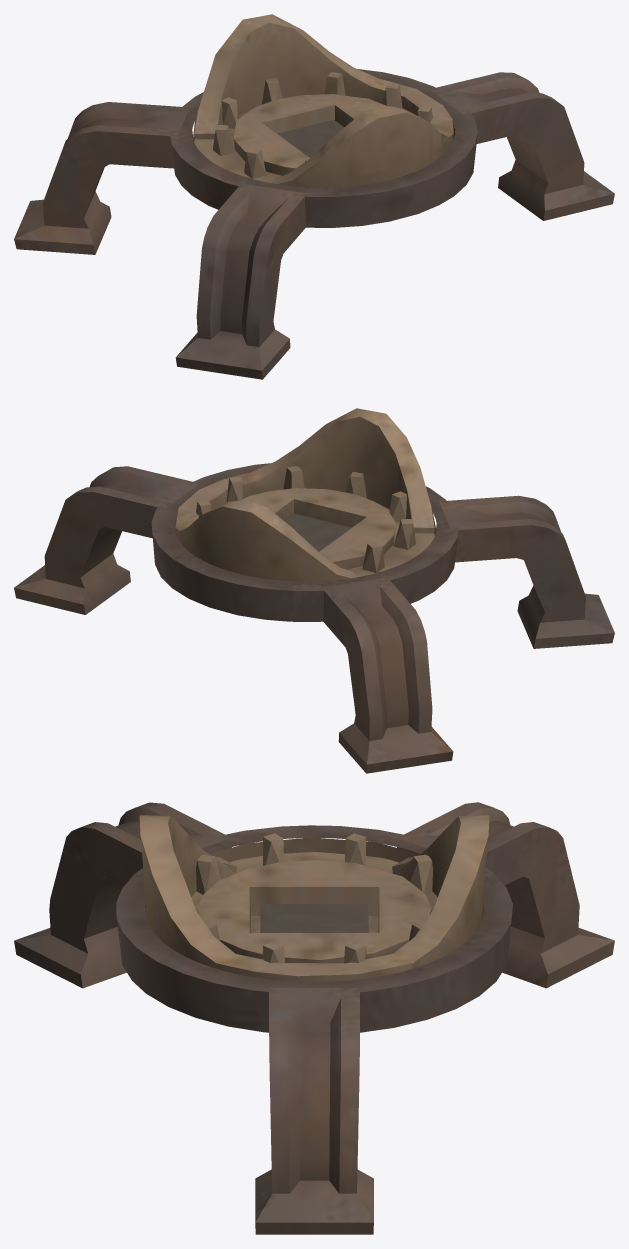
Rendered from burner-inserter-east.glb.
3 renders of one model, top to bottom at view 1: azimuth 30°, elevation 25°; view 2: azimuth 150°, elevation 25°; view 3: azimuth 270°, elevation 25°, orthographic. The views are drawn at different scales.
Visible parts, largest first — view 1: body; view 2: body; view 3: body.
Boxes of the visible parts, x1,y1,x2,y2 form: body: (14,14,614,379); body: (14,408,614,773); body: (14,802,614,1234).
Size of the model in its own units: 1.15 by 0.4164 by 0.9298.
Materials: 1 (1 with a texture image).
